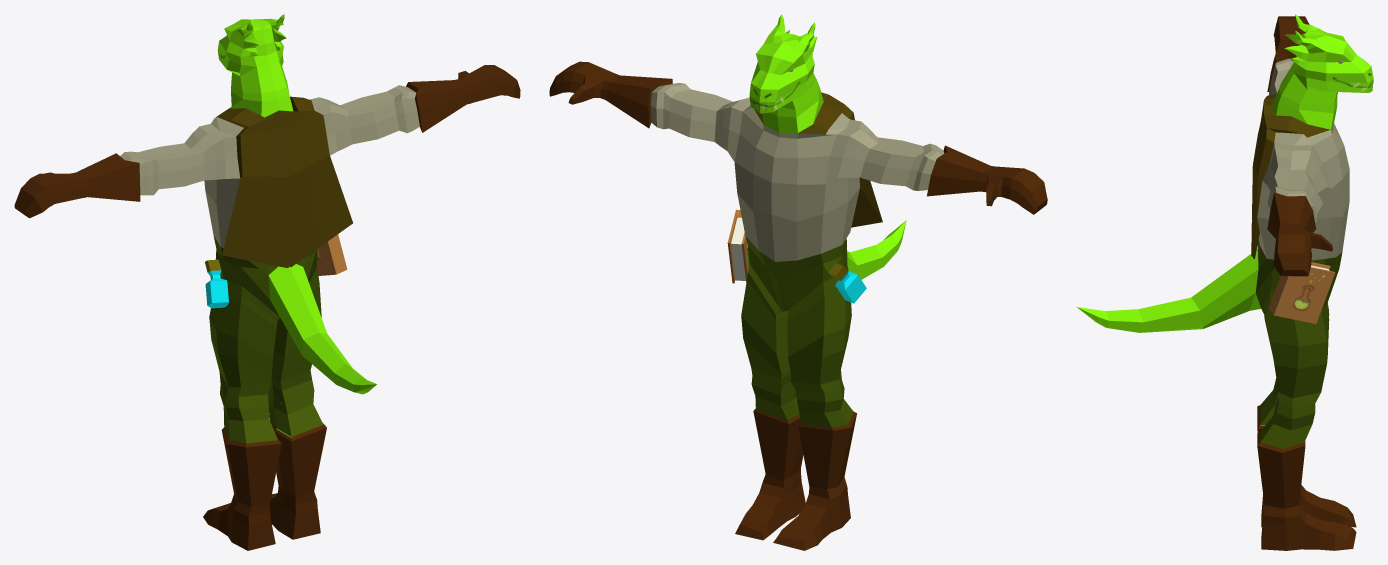
Rendered from Rognic.fbx.
The picture shows the model from 3 angles, left to right: view 1: azimuth 30°, elevation 25°; view 2: azimuth 150°, elevation 25°; view 3: azimuth 270°, elevation 25°; orthographic projection.
Parts seen in each view (by area): view 1: Cube.001; view 2: Cube.001; view 3: Cube.001.
Part boxes in pixels (x1=…): Cube.001: x1=14, y1=14, x2=520, y2=550; Cube.001: x1=549, y1=14, x2=1047, y2=550; Cube.001: x1=1077, y1=14, x2=1373, y2=550.
Bounding box in the file's own units: 289 × 285 × 151.
1 material, 1 textured.
